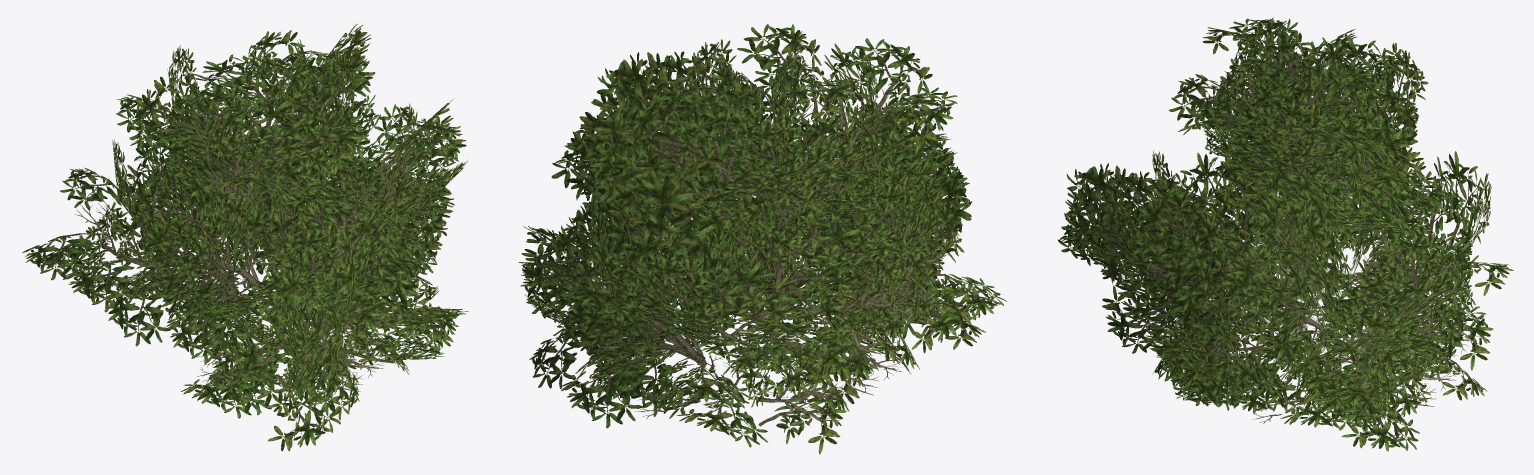
Rendered from cespuglio.fbx.
3 views of the same model, side by side, from view 1: azimuth 30°, elevation 25°; view 2: azimuth 150°, elevation 25°; view 3: azimuth 270°, elevation 25° (orthographic). The views are drawn at different scales.
Visible parts, largest first — view 1: tree_mango_01.008; view 2: tree_mango_01.008; view 3: tree_mango_01.008.
Part boxes in pixels (bbox=[...]): tree_mango_01.008: bbox=[22, 23, 468, 451]; tree_mango_01.008: bbox=[518, 24, 1007, 454]; tree_mango_01.008: bbox=[1058, 17, 1513, 451].
Size of the model in its own units: 360 by 290 by 330.
